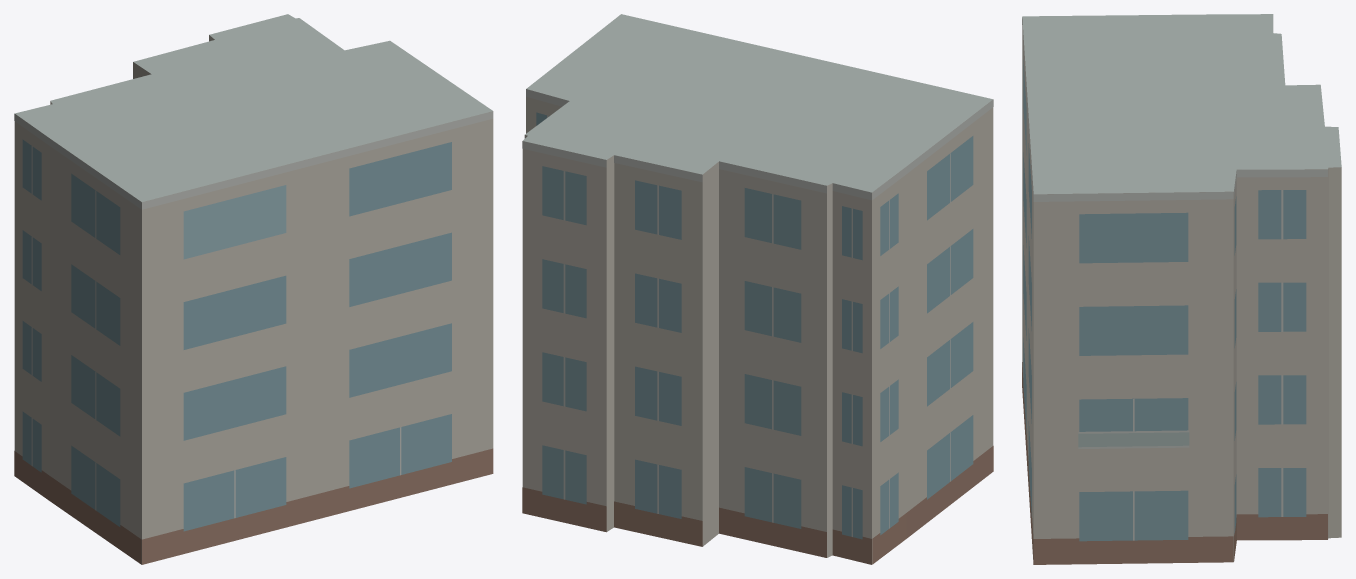
Rendered from survey-upis-32774560.glb.
3 views of the same model, side by side, from view 1: azimuth 30°, elevation 25°; view 2: azimuth 150°, elevation 25°; view 3: azimuth 270°, elevation 25° (orthographic). The views are drawn at different scales.
Parts seen in each view (by area): view 1: survey-upis-32774560.tmp; view 2: survey-upis-32774560.tmp; view 3: survey-upis-32774560.tmp.
Boxes of the visible parts, x1,y1,x2,y2 form: survey-upis-32774560.tmp: (14,14,493,564); survey-upis-32774560.tmp: (522,14,993,564); survey-upis-32774560.tmp: (1022,14,1341,564).
Bounding box in the file's own units: 12.22 × 11.7 × 9.15.
